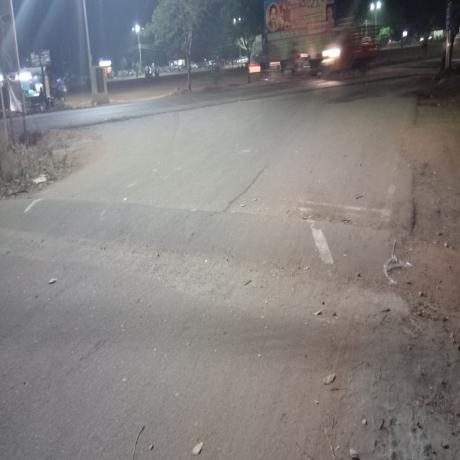Speed Bump: (0, 257, 423, 378), (0, 177, 397, 278)
